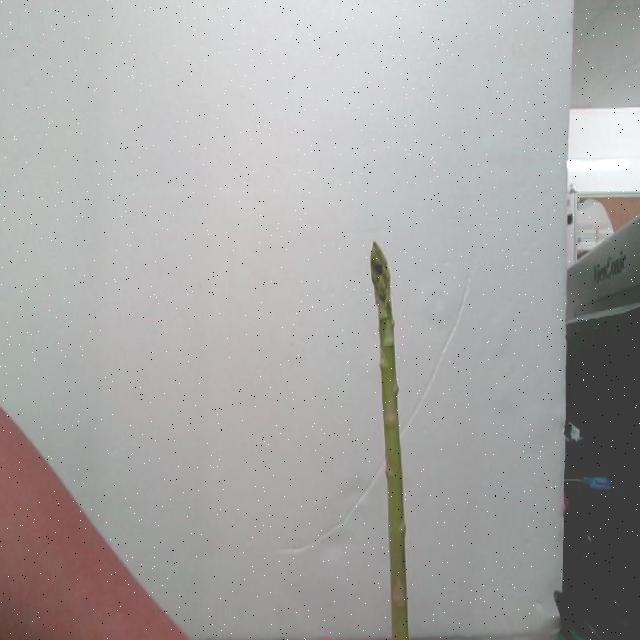aspargus: (371, 247, 413, 640)
